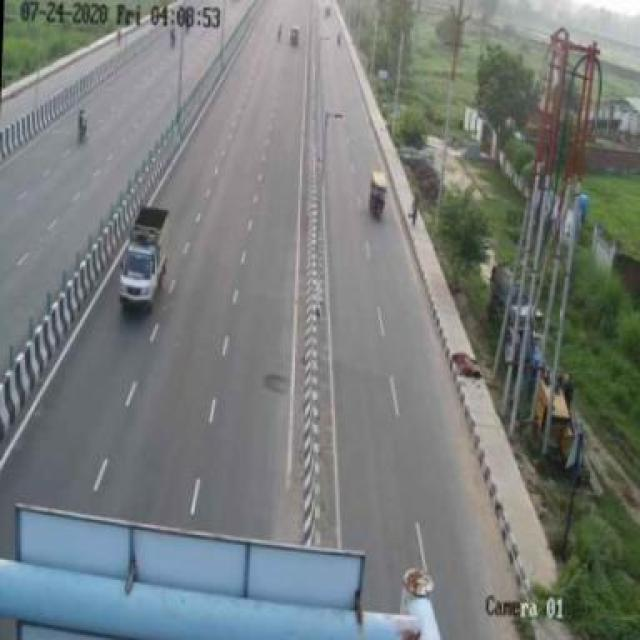car: (107, 198, 180, 320)
